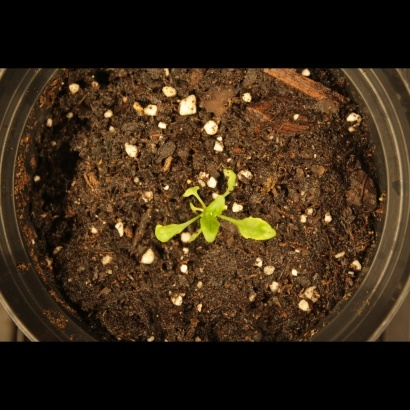leaf: (153, 212, 192, 260), (229, 217, 287, 249), (221, 161, 247, 199), (179, 174, 207, 203), (203, 194, 232, 220), (200, 216, 223, 245)
